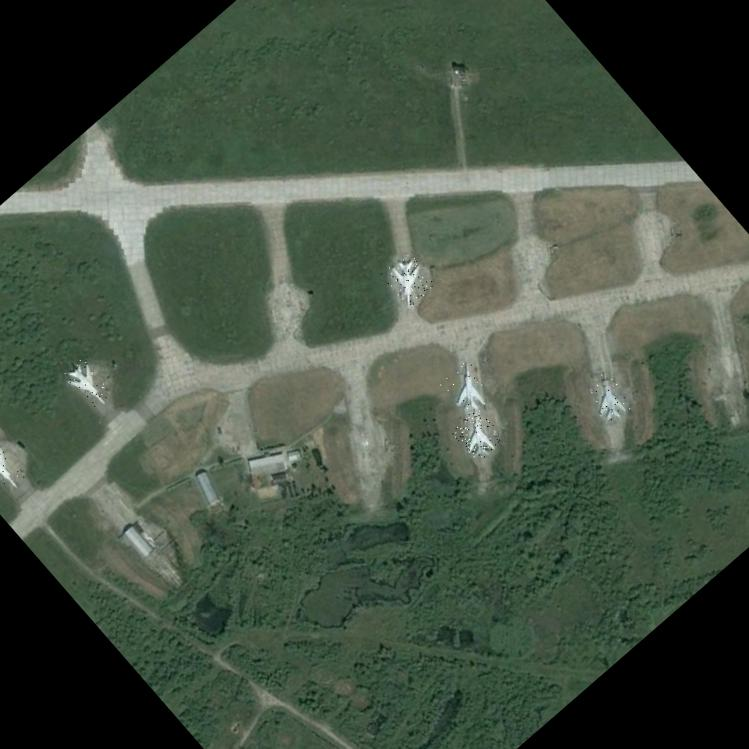A12: (379, 248, 437, 308), (438, 359, 496, 417), (578, 368, 634, 426), (448, 405, 504, 462), (61, 357, 114, 412), (0, 438, 28, 496)
